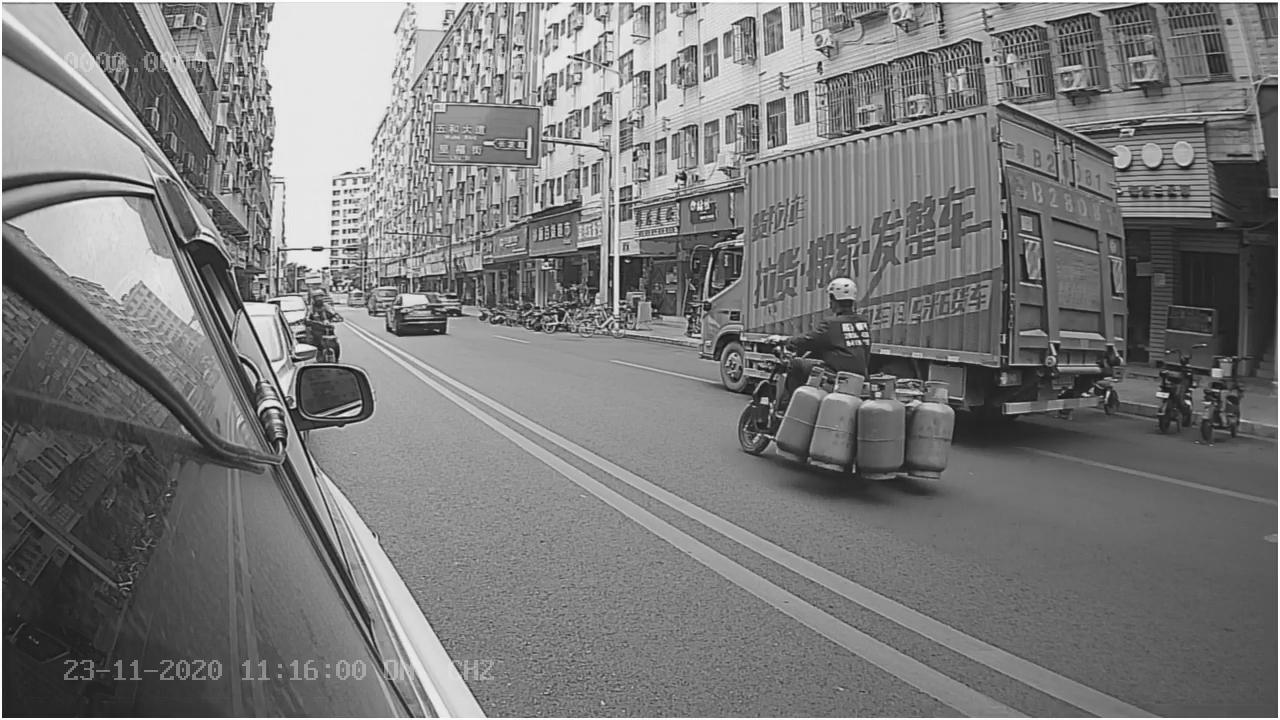person: (807, 275, 878, 371)
